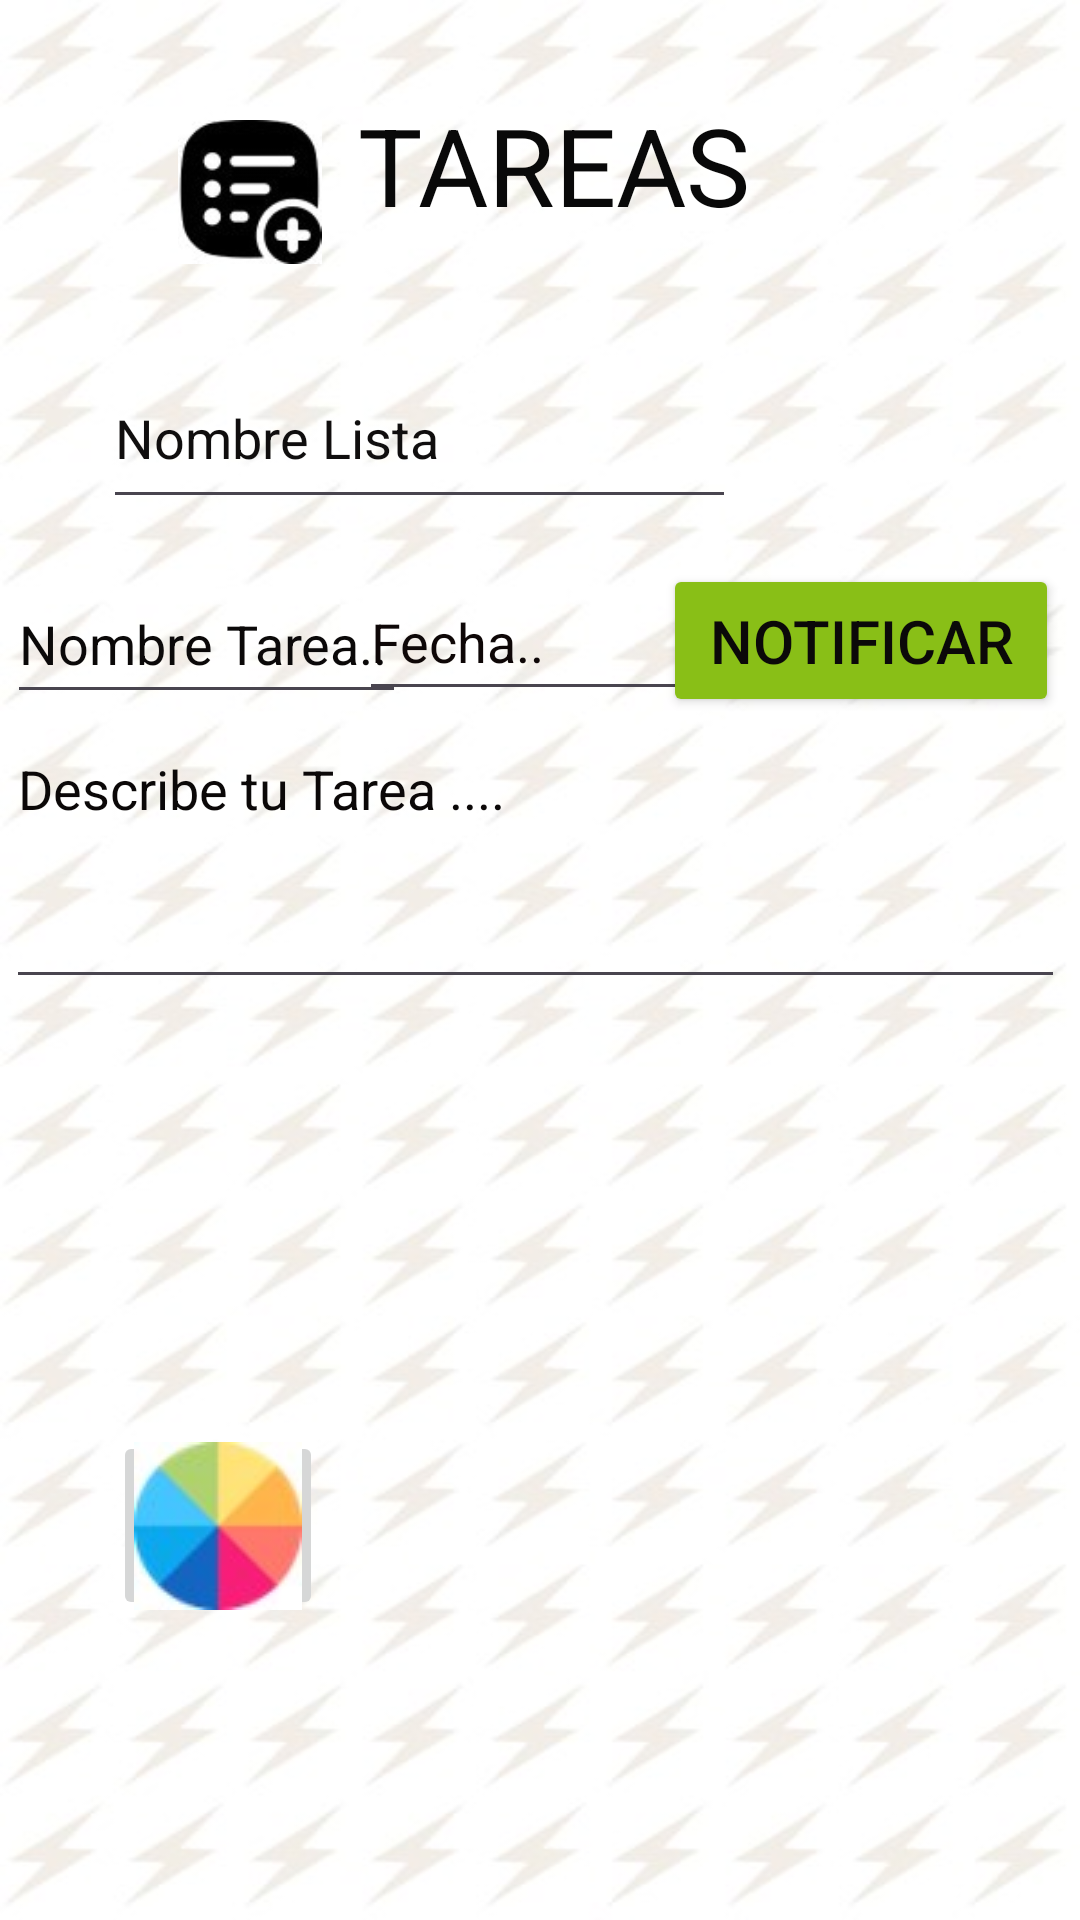

Screen size 1080 × 1920. Icon name, then its center in pixels as (x=x, y=y):
Seleccionar Color: (x=222, y=1531)
